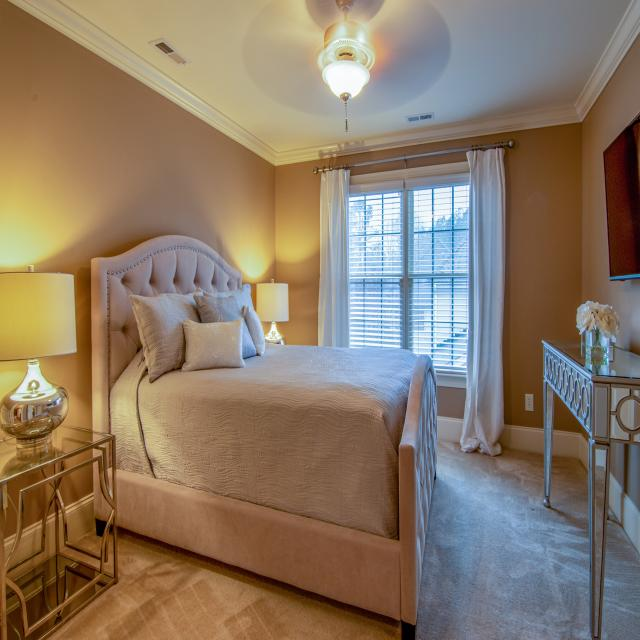floor: (44, 526, 401, 640), (416, 437, 592, 640), (600, 506, 640, 640), (59, 547, 101, 569), (72, 528, 103, 554), (104, 524, 114, 575)
wall: (582, 32, 640, 355), (5, 497, 56, 581), (8, 483, 54, 570), (609, 442, 640, 555), (58, 463, 96, 543), (552, 392, 581, 458), (406, 150, 469, 169), (348, 160, 405, 176), (579, 425, 591, 473), (57, 499, 65, 550)
